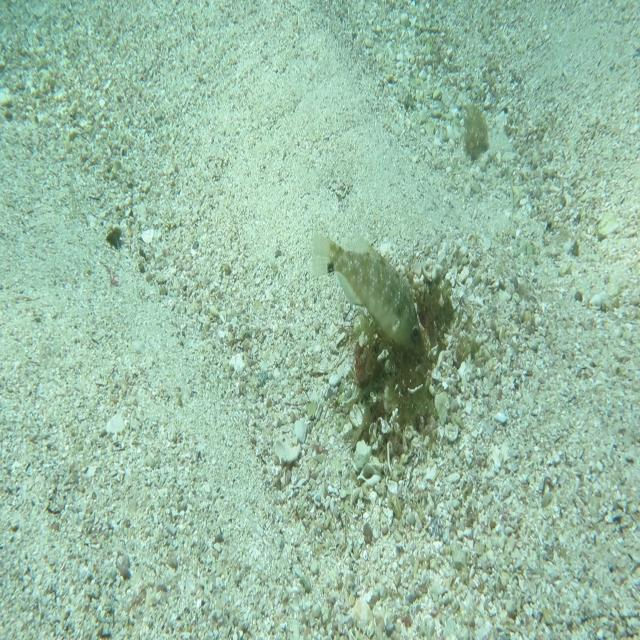NIP_CORE: (310, 227, 427, 361)
nest: (344, 256, 459, 457)
vegetation: (462, 109, 492, 158), (105, 221, 124, 253)
